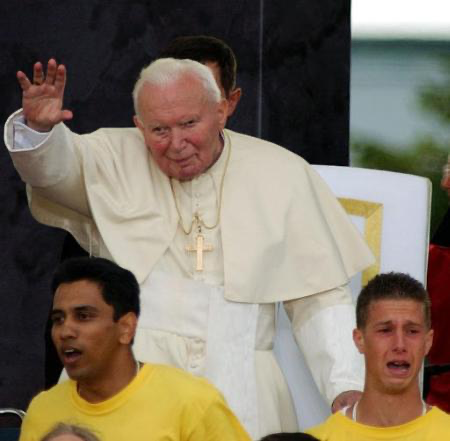Face: (135, 64, 228, 179), (42, 283, 139, 391), (360, 301, 433, 395)
